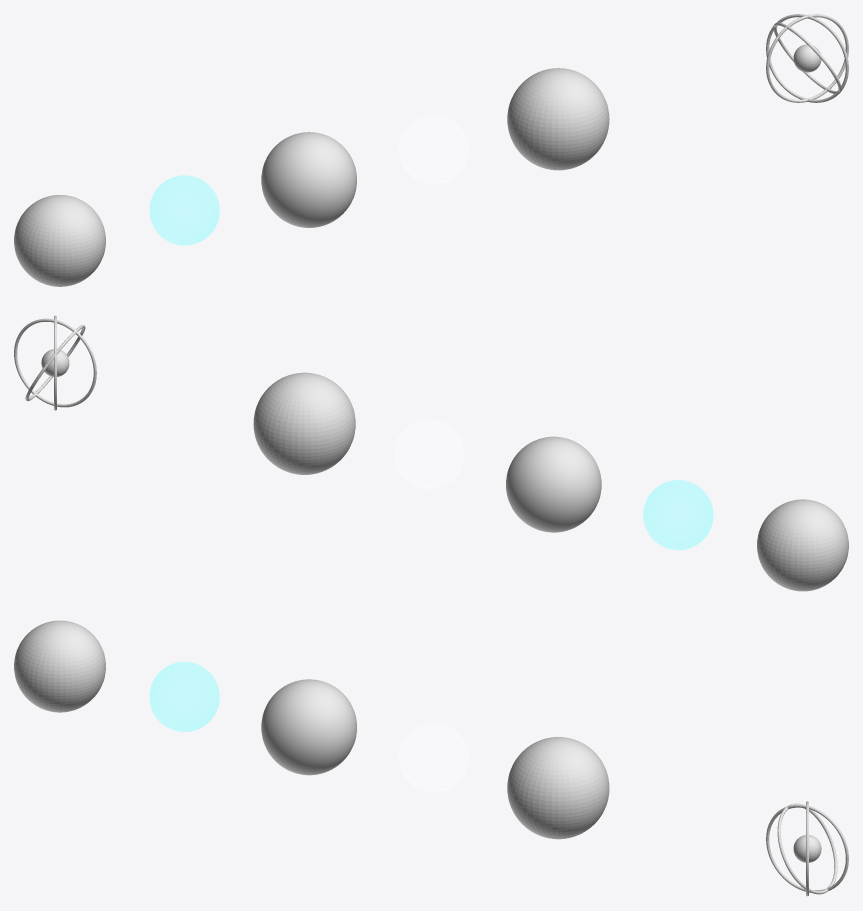
The model's file is SphereSheet.fbx.
The picture shows the model from 3 angles, top to bottom: view 1: azimuth 30°, elevation 25°; view 2: azimuth 150°, elevation 25°; view 3: azimuth 330°, elevation 25°; orthographic projection.
Parts seen in each view (by area): view 1: Sphere_Ghost_Mist, Sphere_Fire_Aura, Sphere_Shield_Aura, Sphere_Shield_Outer, Sphere_Ghost_Outer, Sphere_Slow_Ring_0, Sphere_Slow_Ring_1, Sphere_Slow_Ring_2, Sphere_Slow_Core; view 2: Sphere_Ghost_Mist, Sphere_Fire_Aura, Sphere_Shield_Aura, Sphere_Ghost_Outer, Sphere_Shield_Outer, Sphere_Slow_Ring_0, Sphere_Slow_Ring_2; view 3: Sphere_Ghost_Mist, Sphere_Fire_Aura, Sphere_Shield_Aura, Sphere_Ghost_Outer, Sphere_Shield_Outer, Sphere_Slow_Ring_0, Sphere_Slow_Ring_2, Sphere_Slow_Core.
Boxes of the visible parts, x1,y1,x2,y2 form: Sphere_Ghost_Mist: [507, 68, 609, 170]; Sphere_Fire_Aura: [261, 132, 356, 227]; Sphere_Shield_Aura: [14, 195, 105, 286]; Sphere_Shield_Outer: [149, 175, 219, 245]; Sphere_Ghost_Outer: [399, 115, 468, 184]; Sphere_Slow_Ring_0: [766, 14, 848, 102]; Sphere_Slow_Ring_1: [766, 14, 848, 102]; Sphere_Slow_Ring_2: [774, 22, 841, 93]; Sphere_Slow_Core: [793, 44, 821, 72]; Sphere_Ghost_Mist: [253, 372, 355, 474]; Sphere_Fire_Aura: [506, 436, 601, 532]; Sphere_Shield_Aura: [757, 499, 848, 591]; Sphere_Ghost_Outer: [394, 419, 463, 488]; Sphere_Shield_Outer: [643, 480, 713, 549]; Sphere_Slow_Ring_0: [14, 318, 96, 407]; Sphere_Slow_Ring_2: [25, 325, 85, 401]; Sphere_Ghost_Mist: [507, 737, 609, 839]; Sphere_Fire_Aura: [261, 679, 356, 775]; Sphere_Shield_Aura: [14, 620, 105, 712]; Sphere_Ghost_Outer: [399, 723, 468, 792]; Sphere_Shield_Outer: [149, 662, 219, 731]; Sphere_Slow_Ring_0: [766, 804, 848, 892]; Sphere_Slow_Ring_2: [777, 803, 837, 894]; Sphere_Slow_Core: [793, 835, 821, 862].
Size of the model in its own units: 1497 by 160 by 160.
